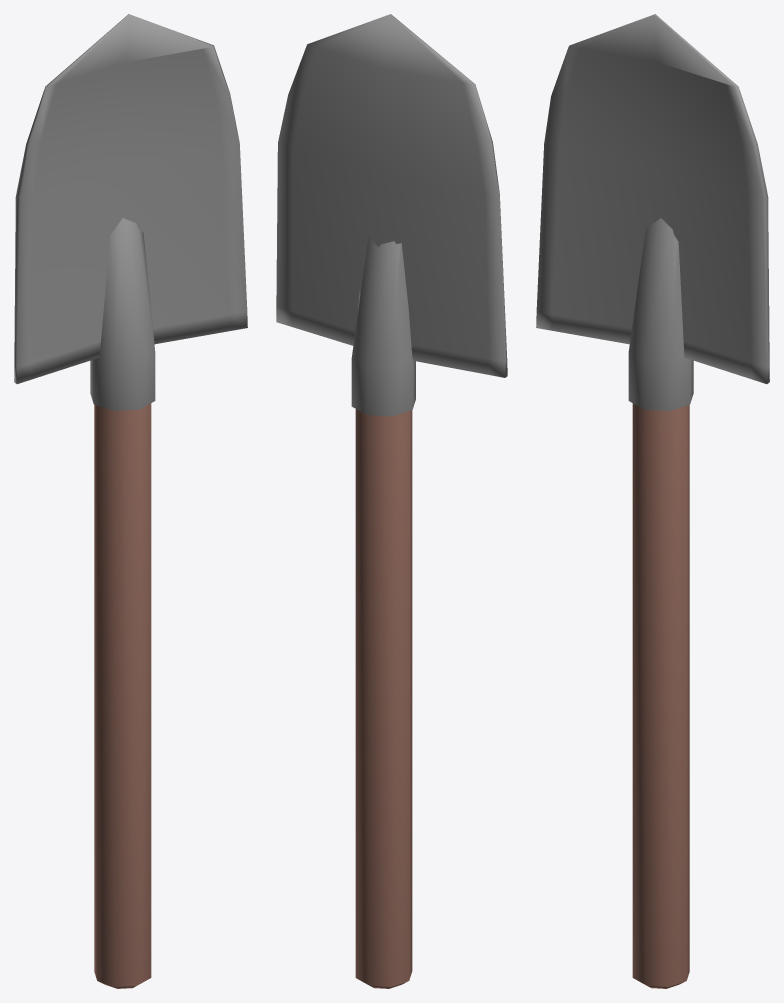
Rendered from hand-shovel.glb.
The picture shows the model from 3 angles, left to right: view 1: azimuth 30°, elevation 25°; view 2: azimuth 150°, elevation 25°; view 3: azimuth 330°, elevation 25°; orthographic projection.
Visible parts, largest first — view 1: Cube, Cylinder; view 2: Cube, Cylinder; view 3: Cube, Cylinder.
Part boxes in pixels (<box>): Cube: <box>14,14,247,383</box>; Cylinder: <box>90,218,155,988</box>; Cube: <box>276,14,507,377</box>; Cylinder: <box>351,237,415,988</box>; Cube: <box>536,14,769,383</box>; Cylinder: <box>628,218,693,988</box>.
Size of the model in its own units: 0.1047 by 0.4224 by 0.0263.
1 material, 1 textured.
